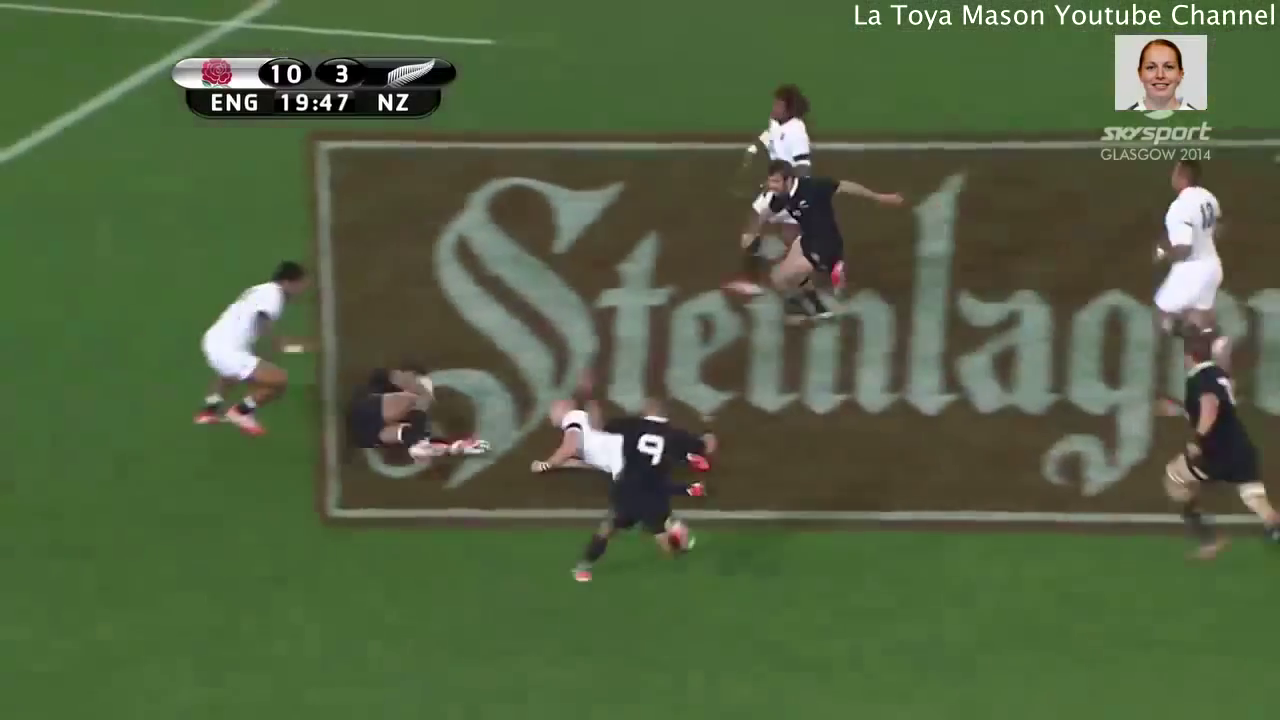player: (1145, 327, 1280, 580), (185, 248, 337, 453), (562, 391, 714, 593), (754, 156, 909, 336), (712, 68, 828, 307), (1137, 144, 1243, 383), (336, 345, 497, 475), (522, 376, 689, 495)
